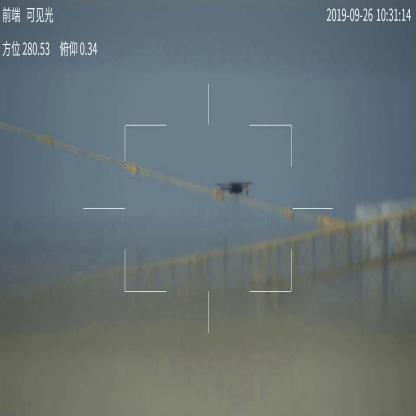uav: (215, 176, 255, 197)
